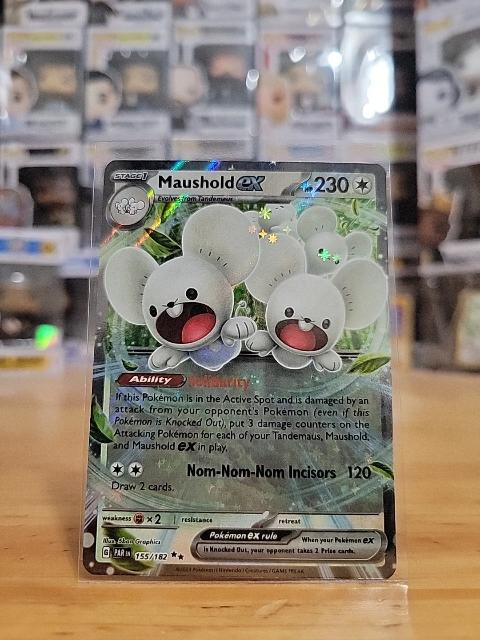Card: (78, 157, 402, 584)
Name: (152, 170, 271, 196)
